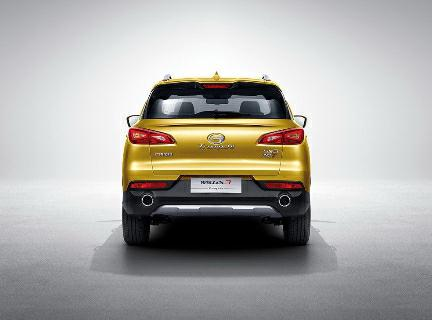广汽传祺-传祺GS3: (117, 69, 317, 258)
